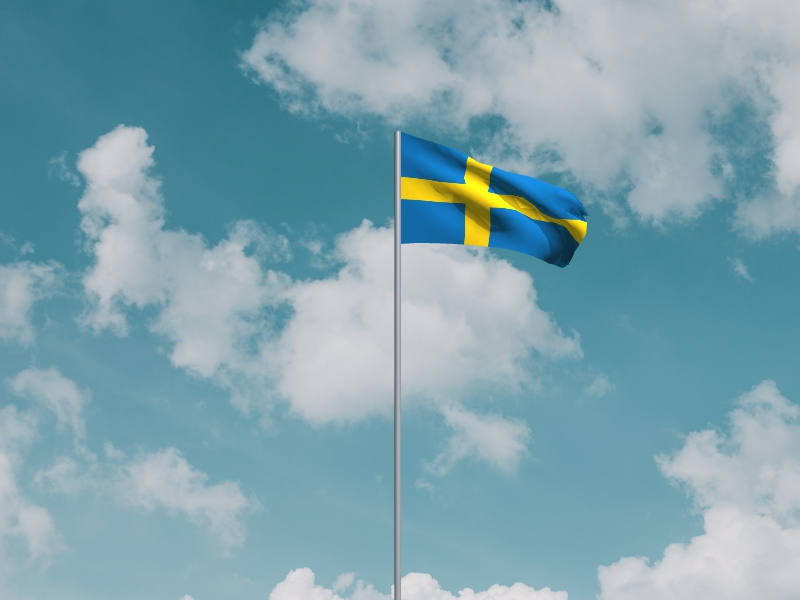se: (402, 133, 591, 270)
